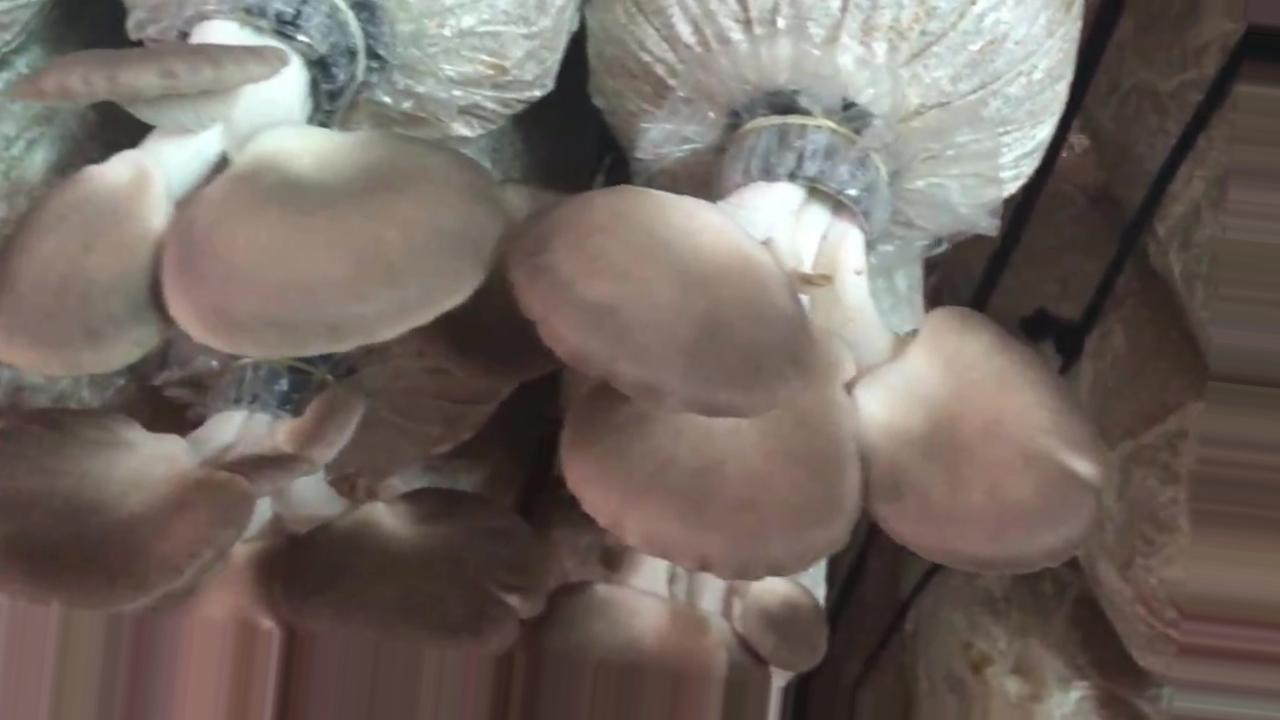nam: (513, 125, 1109, 578), (2, 364, 546, 720), (1, 4, 506, 375), (526, 577, 831, 720)
